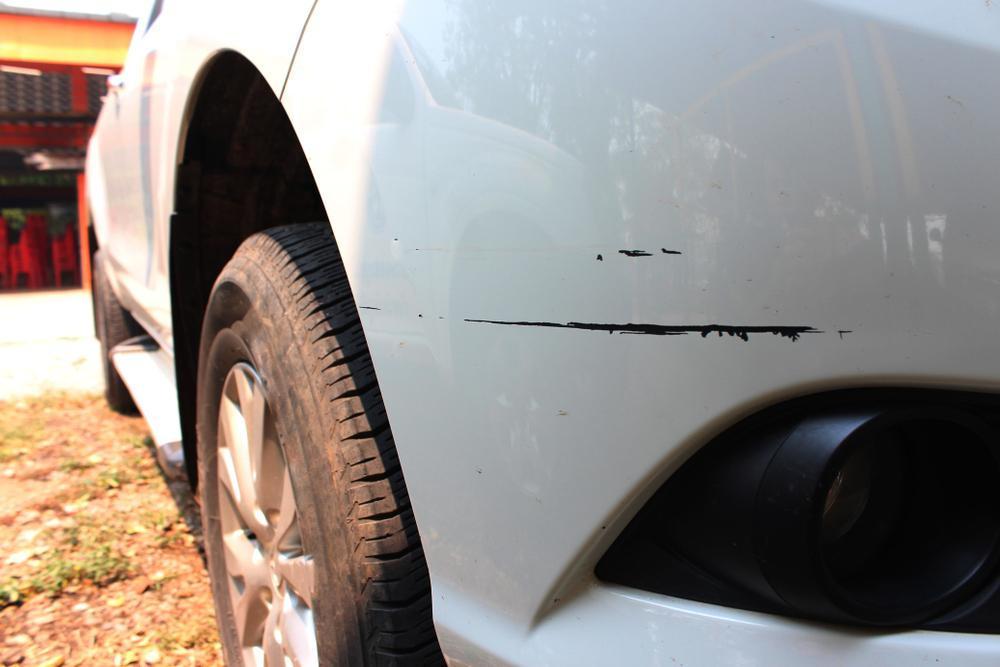scratch: (359, 303, 863, 345), (590, 246, 687, 262)
